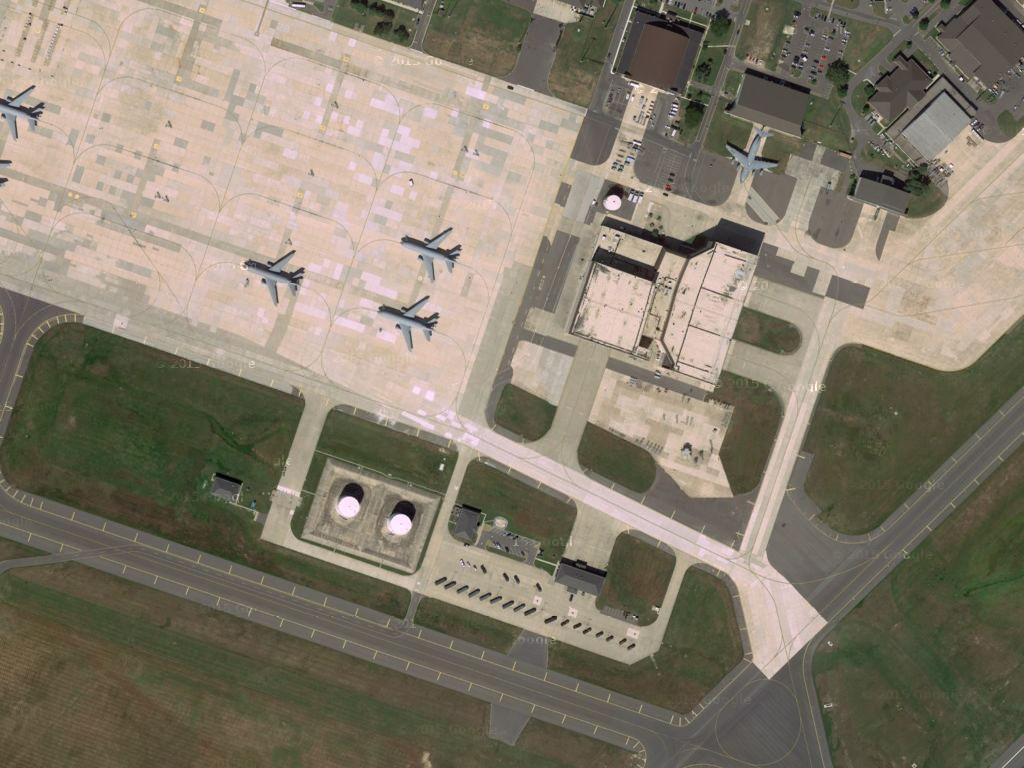C-17: (723, 117, 785, 186)
KC-10: (375, 292, 446, 351), (397, 223, 465, 281), (242, 249, 309, 305), (1, 85, 49, 142)
